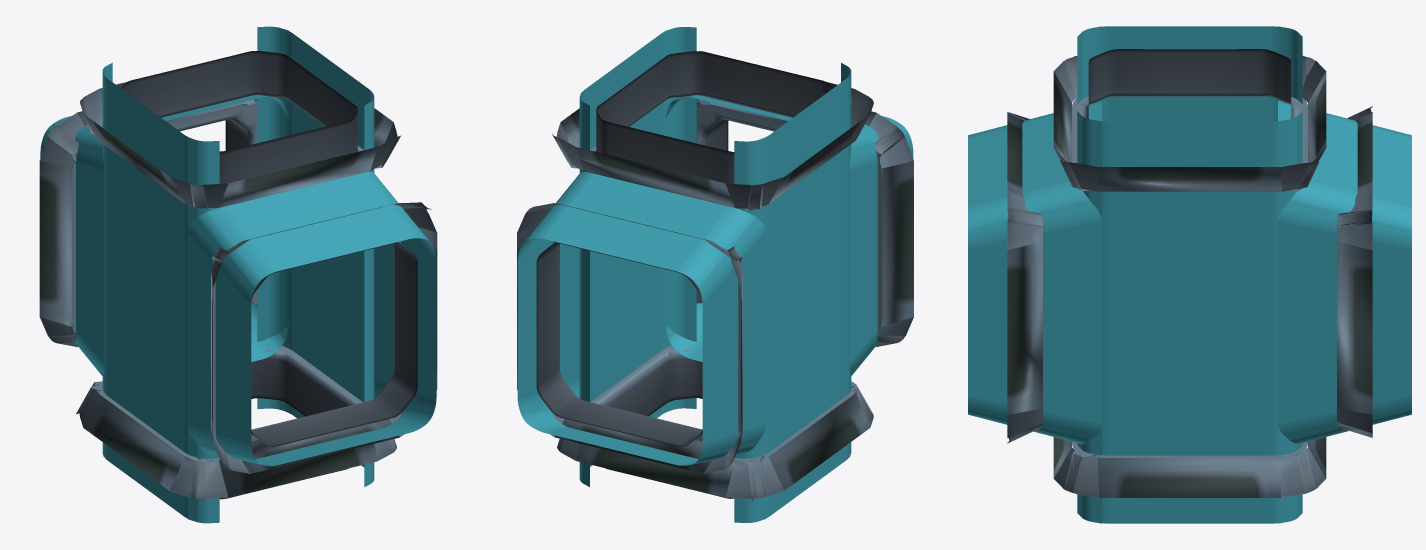
The model's file is obj_interactive_pipe_cross.fbx.
The picture shows the model from 3 angles, left to right: view 1: azimuth 30°, elevation 25°; view 2: azimuth 150°, elevation 25°; view 3: azimuth 270°, elevation 25°; orthographic projection. The views are drawn at different scales.
Parts seen in each view (by area): view 1: obj_interactive_pipe03.001; view 2: obj_interactive_pipe03.001; view 3: obj_interactive_pipe03.001.
Part boxes in pixels (box(x1,y1,x2,y2)): obj_interactive_pipe03.001: box(39, 26, 437, 523); obj_interactive_pipe03.001: box(517, 27, 913, 522); obj_interactive_pipe03.001: box(968, 26, 1411, 523).
Bounding box in the file's own units: 2 × 3 × 3.
